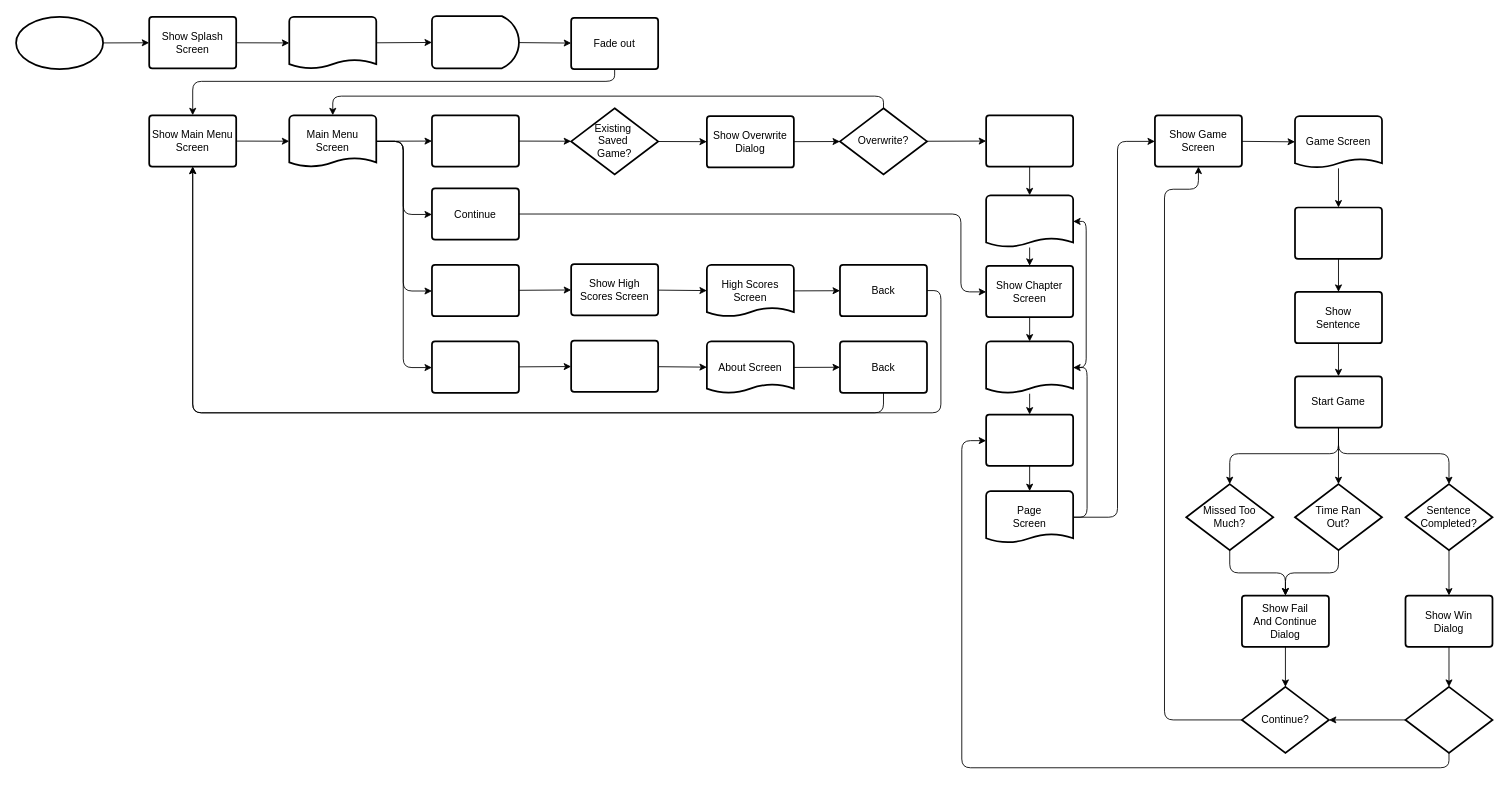
Image size: 1508x790. Some labels were removed from this diagram. Each missing label, with the centre of its shape:
"About" belongs at point 475,366.
"Any More Sentences?" belongs at point 1448,719.
"Book Screen" belongs at point 1029,221.
"Chapter Screen" belongs at point 1029,367.
"High Scores" belongs at point 475,290.
"New Game" belongs at point 475,140.
"Show About Screen" belongs at point 614,365.
"Show Book Screen" belongs at point 1029,140.
"Show Page Screen" belongs at point 1029,439.
"Small Delay" belongs at point 475,42.
"Splash Screen" belongs at point 332,43.
"Start" belongs at point 59,43.
"Start Pregame" belongs at point 1338,232.
